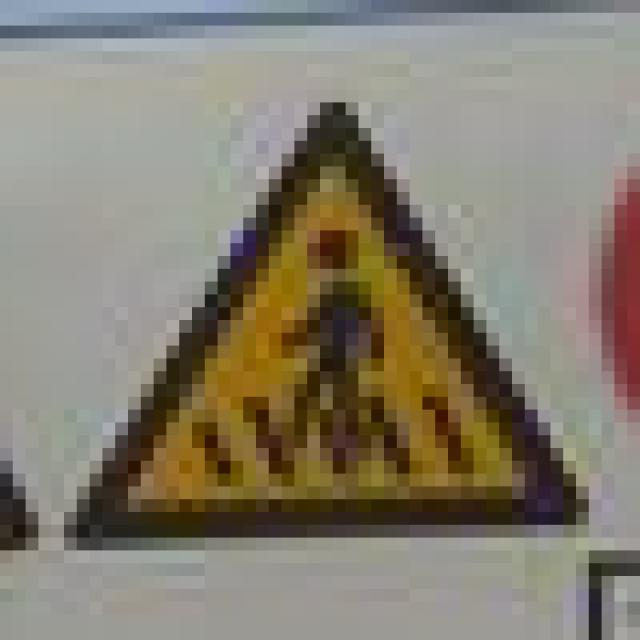pass_either_side: (38, 77, 576, 512)
